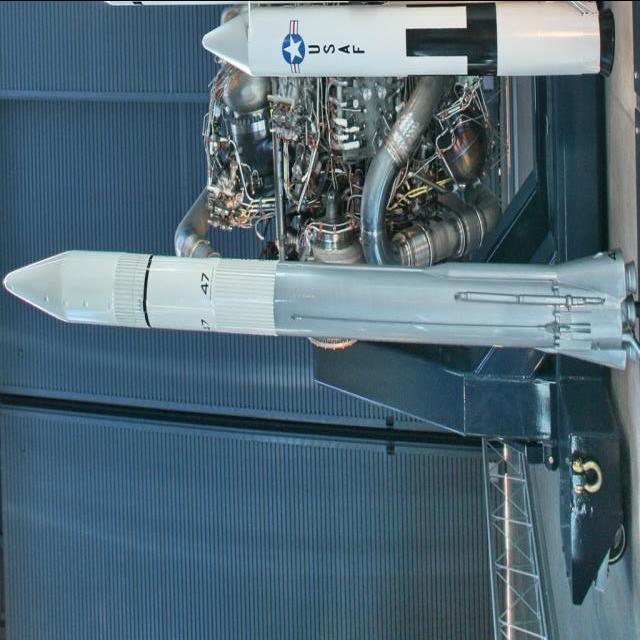missile: (2, 244, 640, 370), (193, 0, 616, 86)
